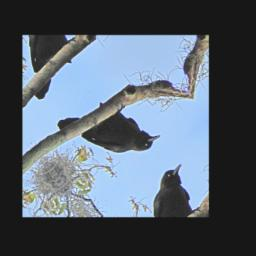Crow: (55, 75, 162, 186)
